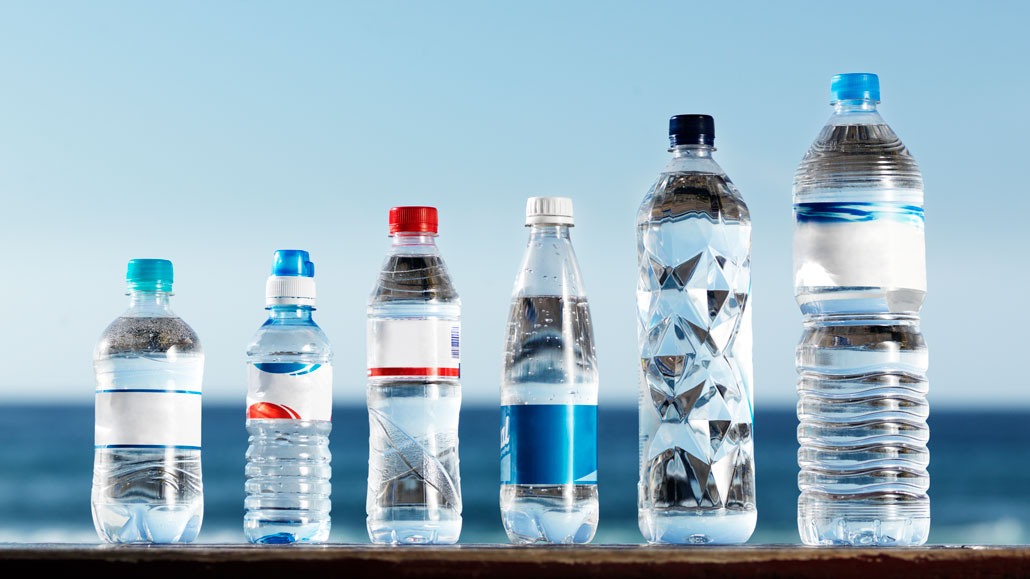plastic_bottle: (788, 61, 942, 551), (630, 102, 766, 540), (492, 177, 615, 545), (362, 200, 477, 553), (85, 243, 212, 545), (242, 227, 338, 546)
